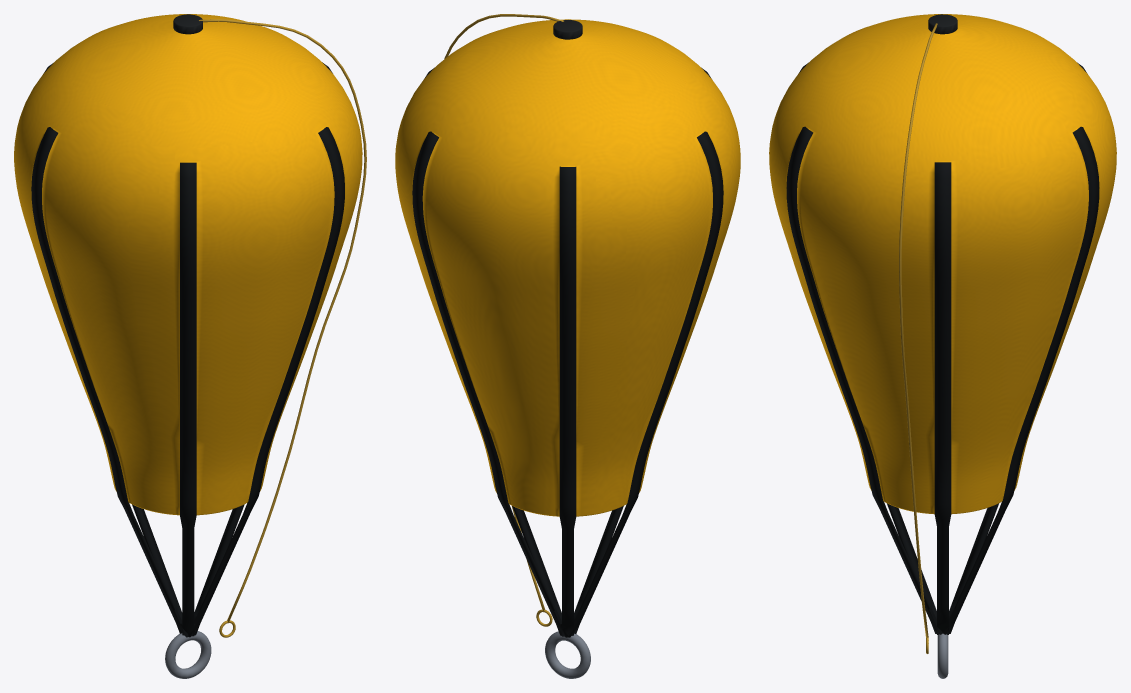
File: NEW691_LiftBag_LOD1.glb
3 renders of one model, left to right at view 1: azimuth 30°, elevation 25°; view 2: azimuth 150°, elevation 25°; view 3: azimuth 270°, elevation 25°, orthographic.
Parts seen in each view (by area): view 1: Open_bottom_cloth_with_six_harness_legs, External_dump_pull_line, Single_vertical_metal_load_ring; view 2: Open_bottom_cloth_with_six_harness_legs, Single_vertical_metal_load_ring, External_dump_pull_line, External_top_dump_valve; view 3: Open_bottom_cloth_with_six_harness_legs, External_dump_pull_line, Single_vertical_metal_load_ring.
Part boxes in pixels (<box>): Open_bottom_cloth_with_six_harness_legs: <box>14,14,362,637</box>; External_dump_pull_line: <box>198,19,366,623</box>; Single_vertical_metal_load_ring: <box>165,631,211,678</box>; Open_bottom_cloth_with_six_harness_legs: <box>395,19,740,637</box>; Single_vertical_metal_load_ring: <box>545,631,590,678</box>; External_dump_pull_line: <box>444,14,563,612</box>; External_top_dump_valve: <box>553,20,582,39</box>; Open_bottom_cloth_with_six_harness_legs: <box>769,14,1116,634</box>; External_dump_pull_line: <box>899,23,937,637</box>; Single_vertical_metal_load_ring: <box>937,633,948,678</box>.
Bounding box in the file's own units: 1.03 × 2.1 × 1.01.
5 materials, 5 textured.
